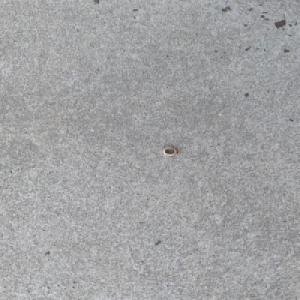Nut: (162, 147, 178, 156)
